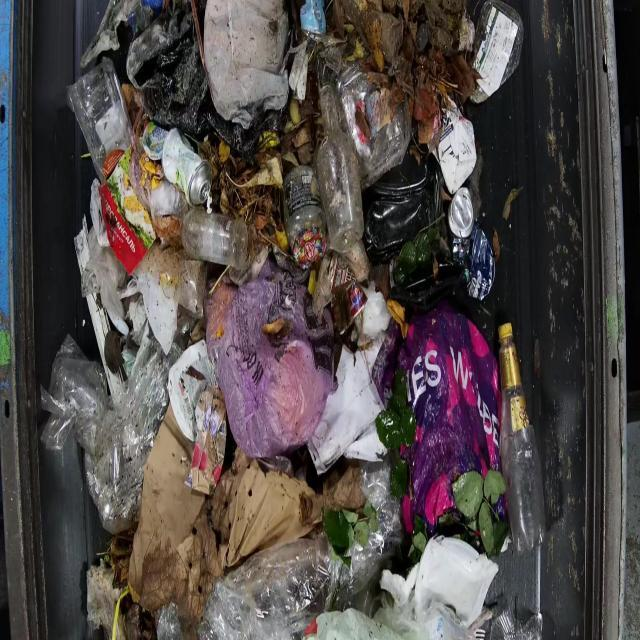cups: (179, 207, 250, 270)
other-trash: (46, 0, 534, 638)
